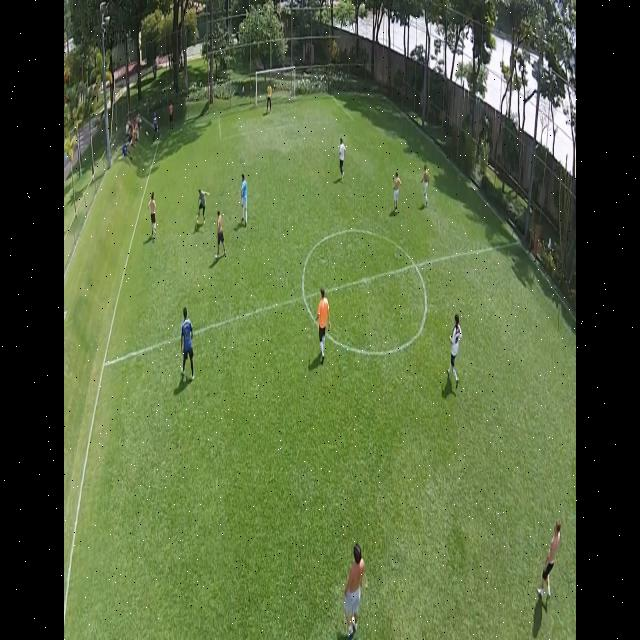humans: (340, 535, 366, 637), (538, 511, 563, 607), (444, 307, 462, 397), (177, 301, 196, 381), (314, 284, 330, 366), (212, 202, 227, 264), (192, 181, 211, 227), (419, 156, 432, 211), (238, 168, 249, 228), (147, 181, 158, 241), (336, 132, 348, 182), (390, 169, 403, 211)
